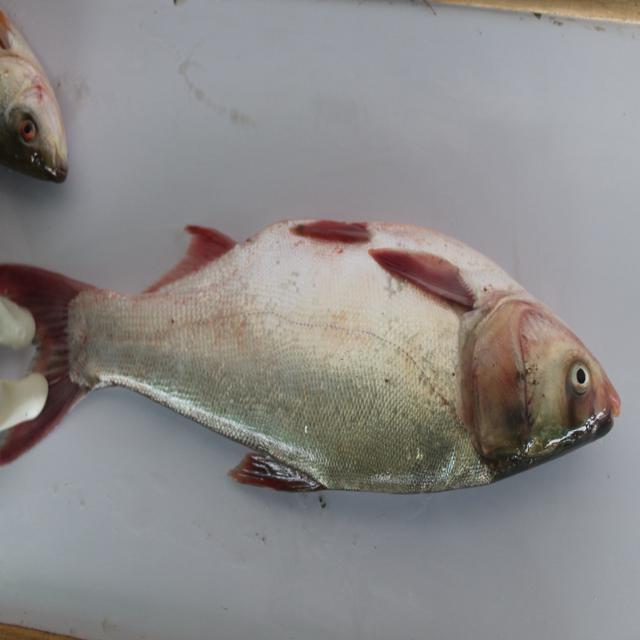SilverCarp: (1, 208, 639, 520)
